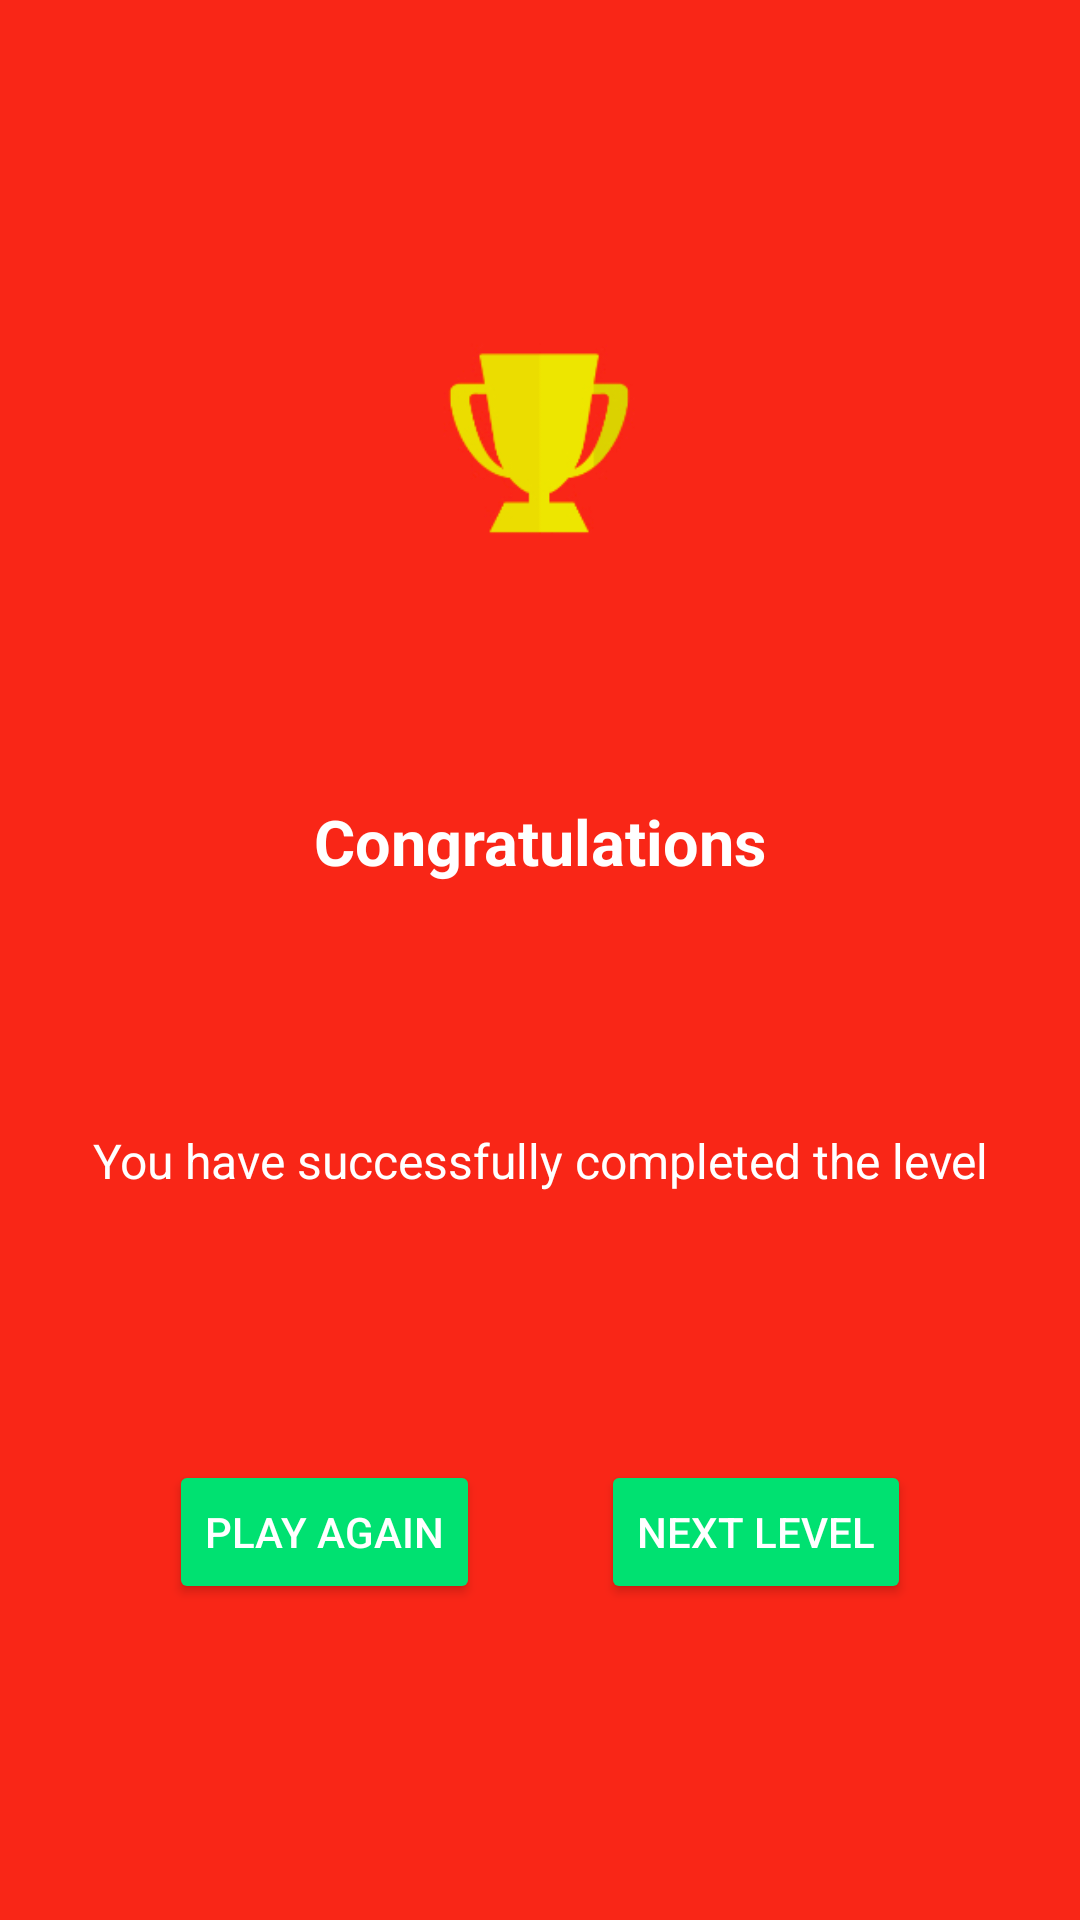

Where to tap for icons on this 1080w x 1920h app screen, as (x,y):
cup: (539,443)
